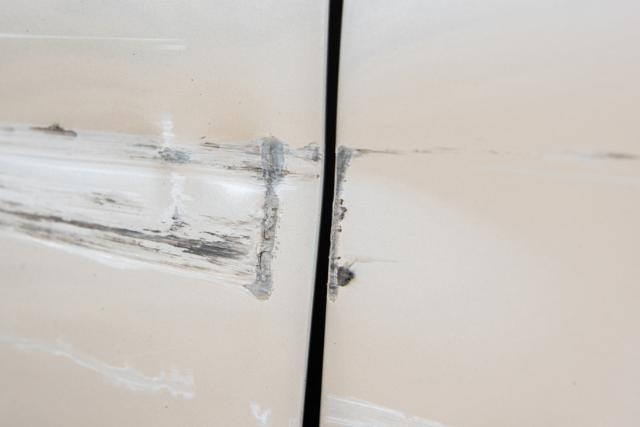Door: (2, 102, 318, 322), (312, 149, 444, 316)
